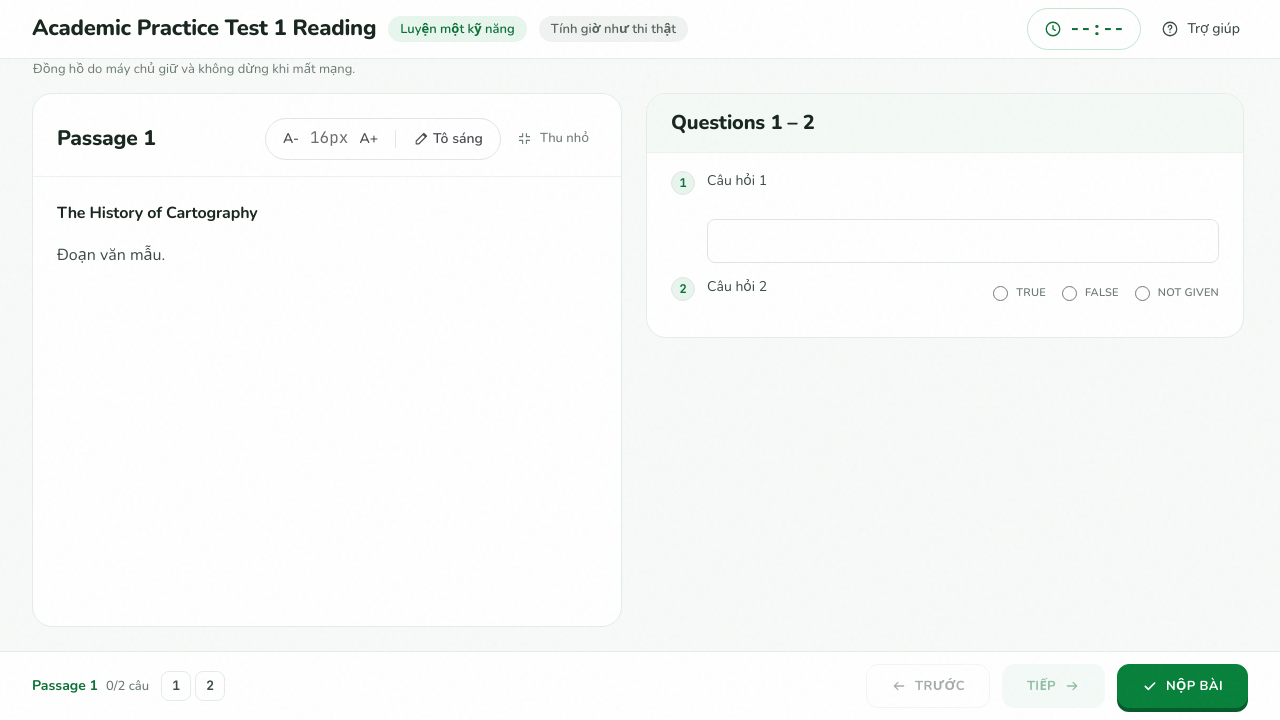
Test: keeps a refused answer and an accepted one apart when the debounce splits them
The width and height of the screenshot is (1280, 720).
Type "quá dài" into the field labelled "1 Câu hỏi 1".
click(963, 240); type("quá dài")  # box [707,218,1219,262]
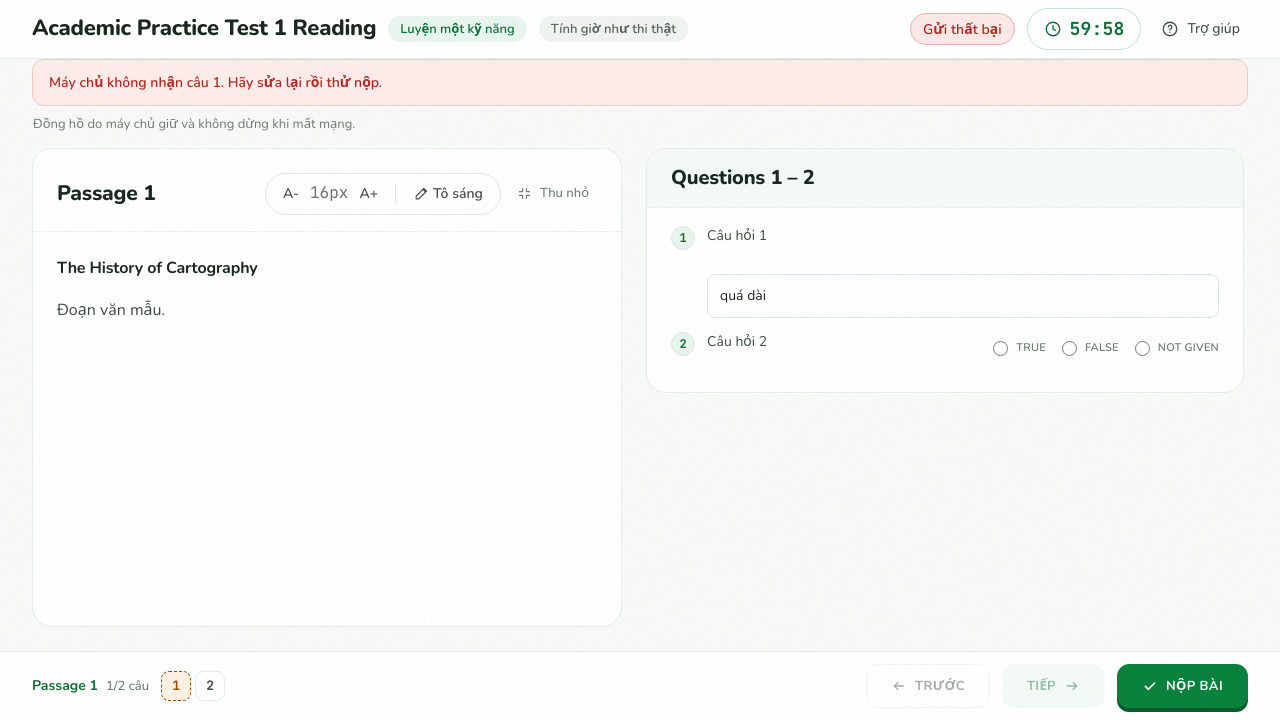
Click the radio button labelled "TRUE".
click(1001, 348)  # box [993,341,1008,356]
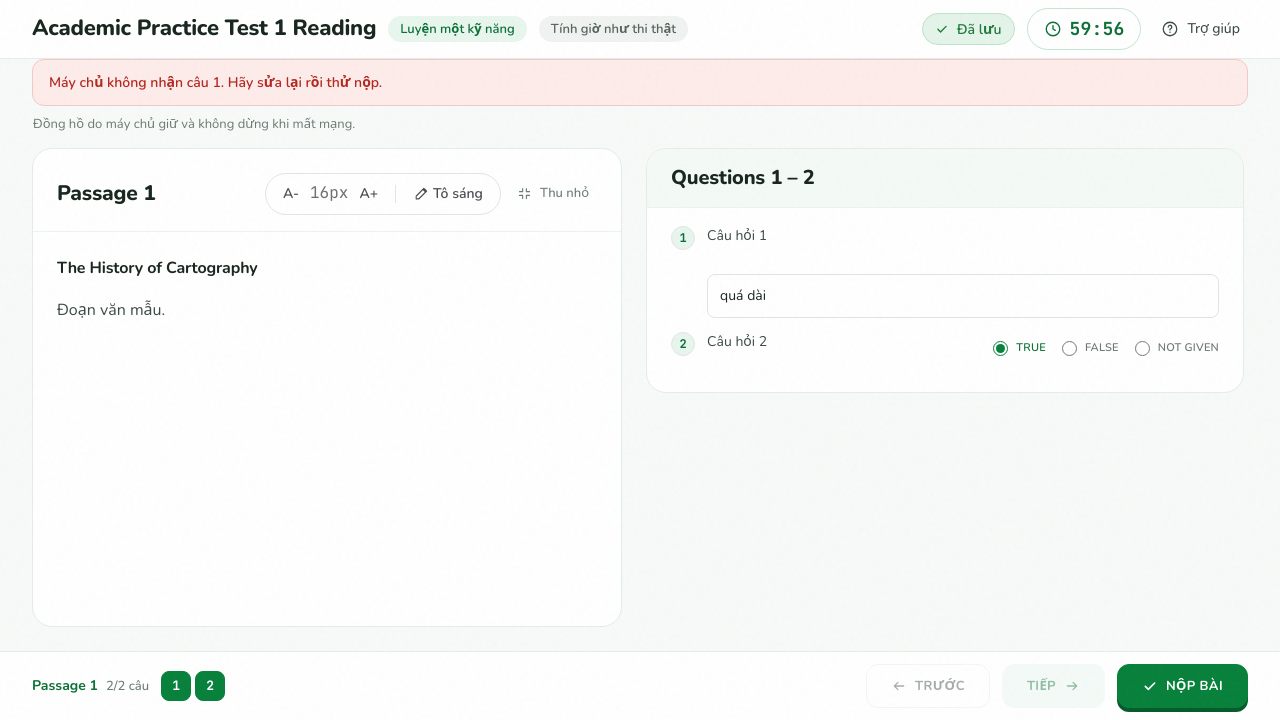
Expected: the text "Máy chủ không nhận câu 1. Hãy sửa lại rồi thử nộp." is shown, [32,59,1248,106]
Click the button "NỘP BÀI".
click(1182, 686)  # box [1117,664,1248,708]
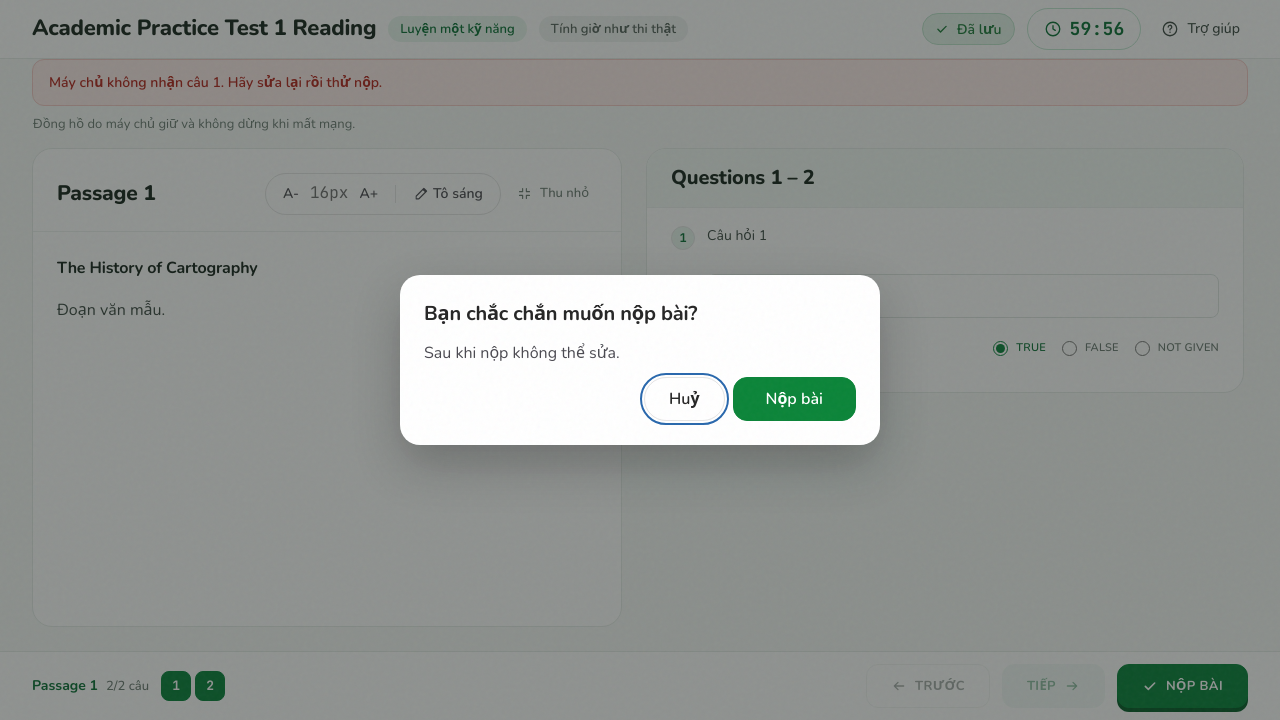
Click the button "Nộp bài".
click(794, 399)  # box [733,377,856,421]
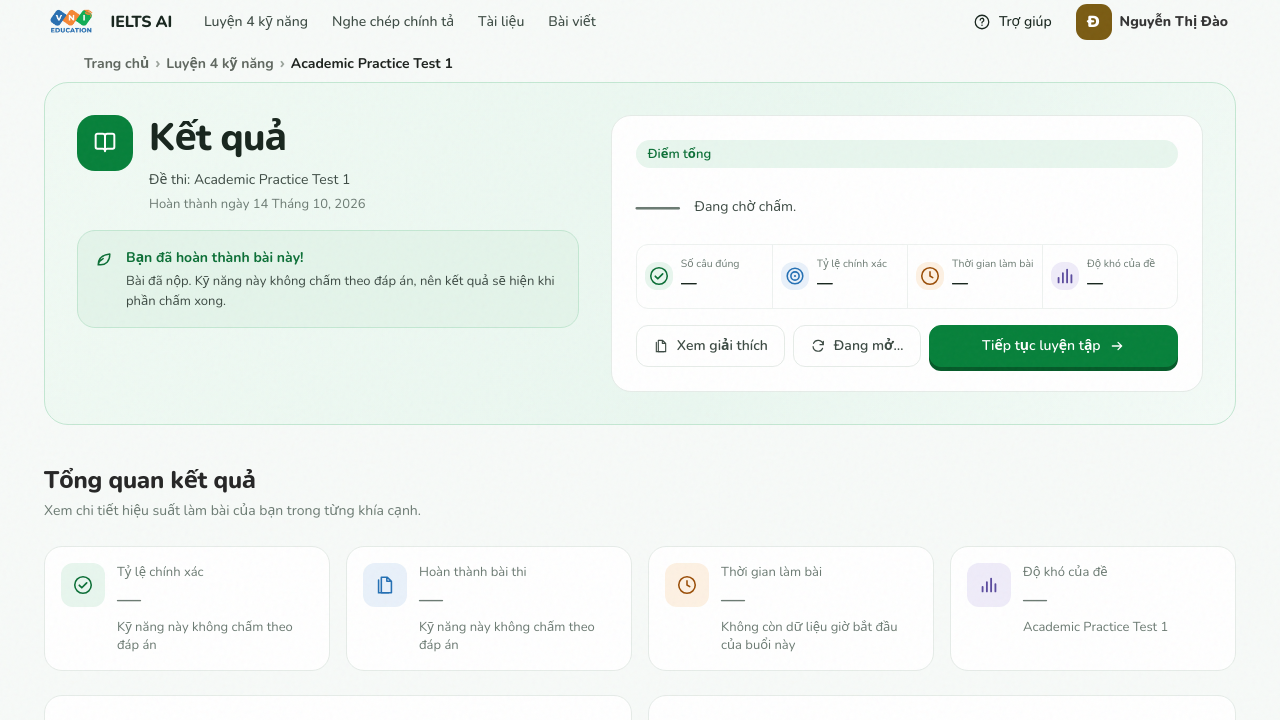
Expected: the text "Đề thi: Academic Practice Test 1" is shown, [149,169,366,190]
